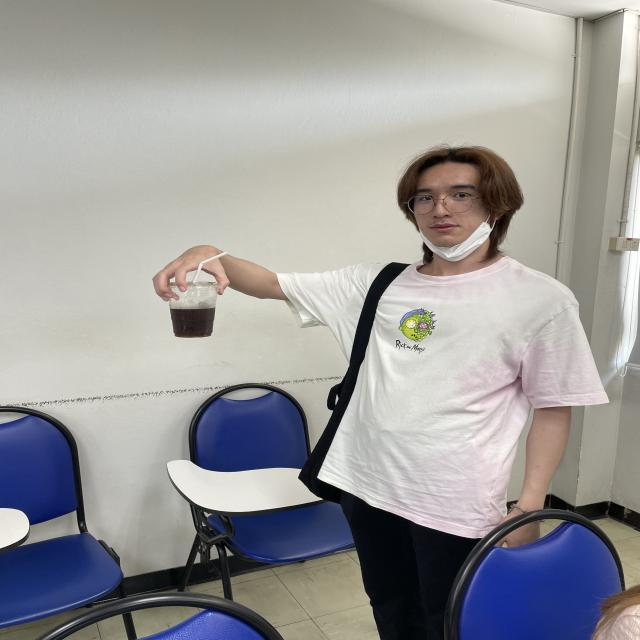cup: (165, 278, 219, 338)
